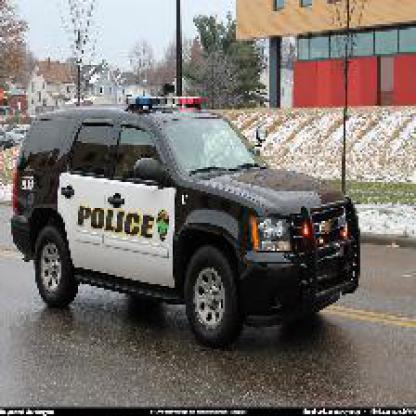emergency: (15, 80, 394, 358)
